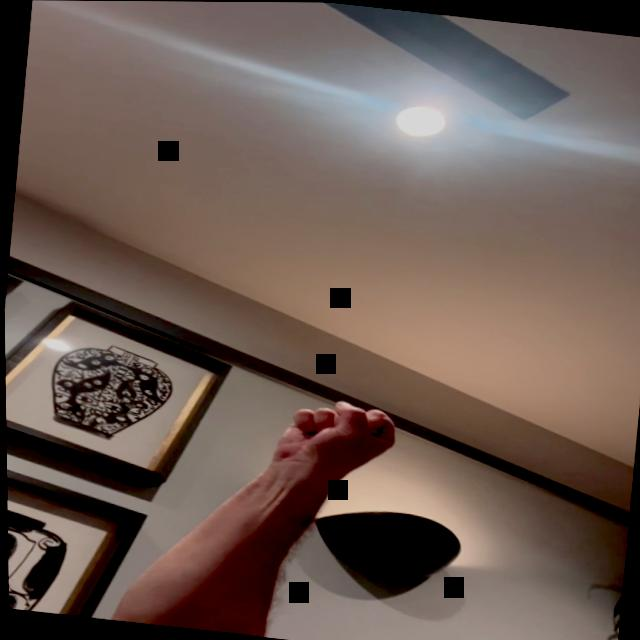Rock: (273, 393, 398, 474)
